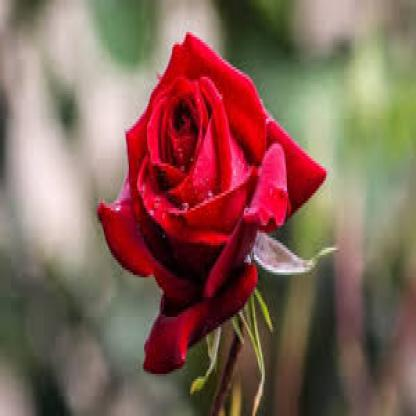Rose-Mawar: (80, 26, 337, 377)
